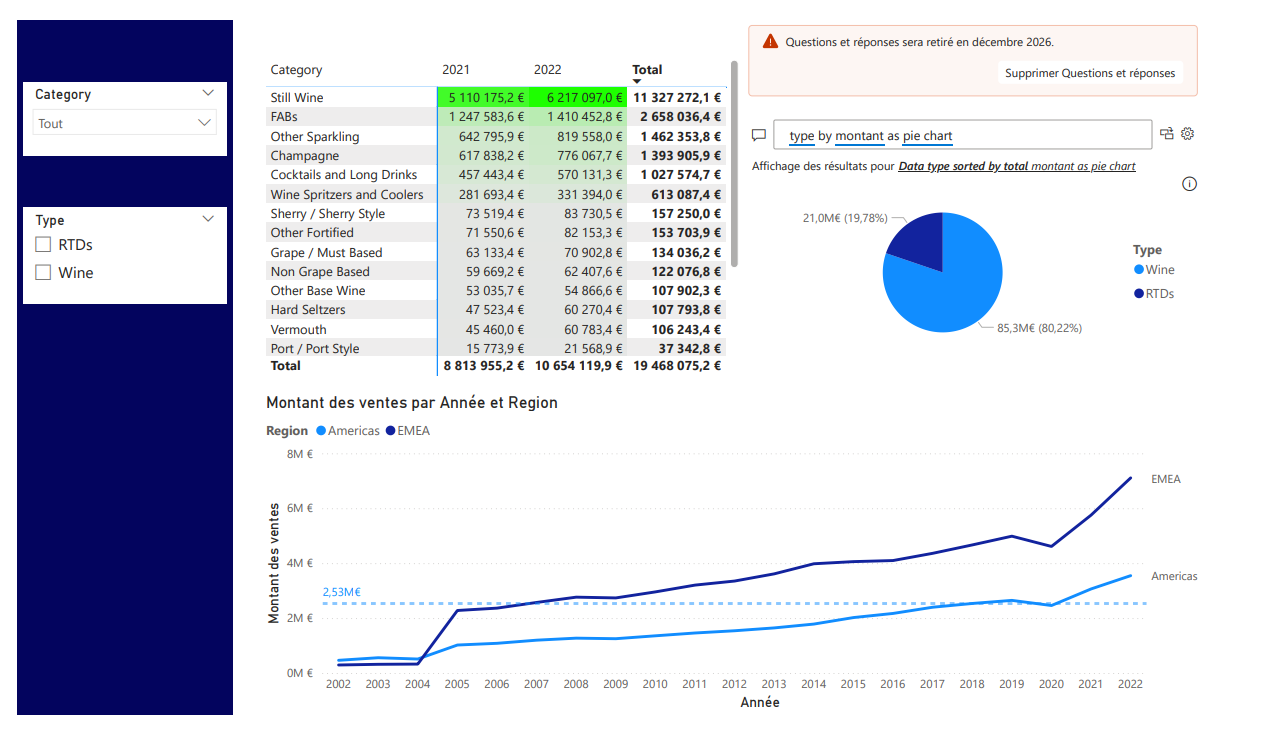

This screenshot's page, from the dashboard's own definition file:
{"tool":"powerbi","page":{"name":"Page 2","canvas":[1280,720],"ordinal":1},"visuals":[{"type":"pivotTable","fields":{"Rows":["Data.Category"],"Columns":["Data.Année"],"Values":["Sum(Data.Montant)"]},"box":[252.9,35.7,500,337.1],"z":0},{"type":"lineChart","fields":{"Y":["Sum(Data.Montant)"],"Category":["Data.Année"],"Series":["Country.Region"]},"box":[252.9,385.7,975.7,334.3],"z":1000},{"type":"textbox","box":[0,0,222.9,720],"z":2000},{"type":"slicer","fields":{"Values":["Data.Category"]},"box":[6,66.4,211.1,76],"z":3000},{"type":"slicer","fields":{"Values":["Data.Type"]},"box":[6,179.8,211.1,100.1],"z":4000},{"type":"qnaVisual","box":[774.5,0,475.3,359.5],"z":5000}]}

Visuals, with their boxes on the page's 1280x720 design canvas (x1, y1, x2, y2). These are canvas units, not pixel positions in the 1270x735 screenshot, which may show the page scaled, cropped or inside an application window:
pivotTable - Data.Category x Data.Année: (253,36,753,373)
lineChart - Sum(Data.Montant) x Data.Année: (253,386,1229,720)
textbox: (0,0,223,720)
slicer - Data.Category: (6,66,217,142)
slicer - Data.Type: (6,180,217,280)
qnaVisual: (774,0,1250,360)
